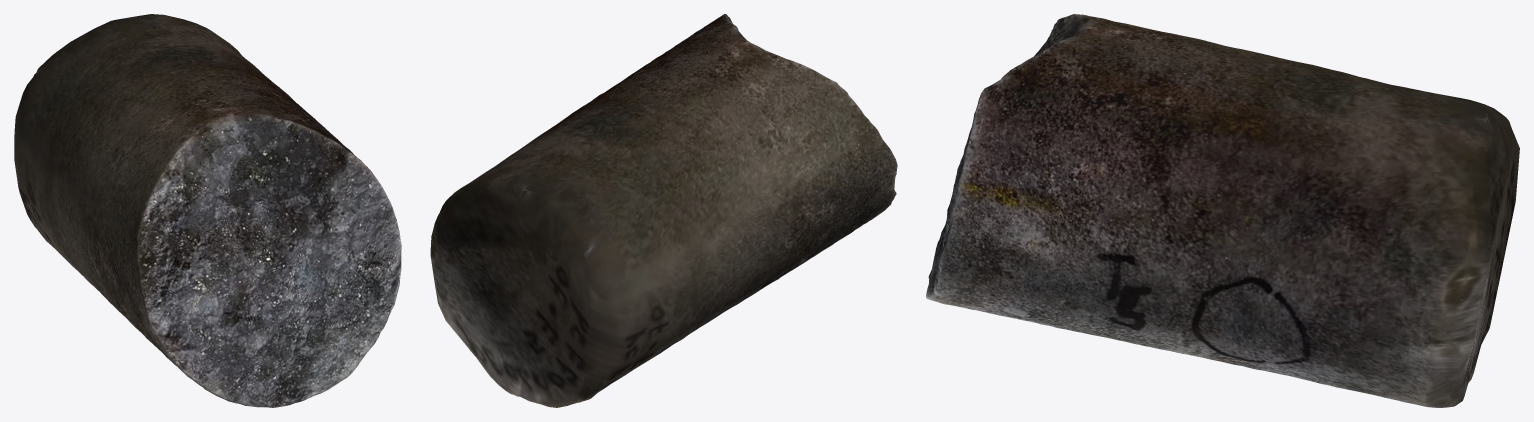
File: PECLD07754 T5.GLB
3 renders of one model, left to right at view 1: azimuth 30°, elevation 25°; view 2: azimuth 150°, elevation 25°; view 3: azimuth 270°, elevation 25°, orthographic. The views are drawn at different scales.
Visible parts, largest first — view 1: baked_mesh; view 2: baked_mesh; view 3: baked_mesh.
Boxes of the visible parts, x1,y1,x2,y2 form: baked_mesh: [14, 14, 401, 407]; baked_mesh: [430, 14, 897, 407]; baked_mesh: [926, 14, 1519, 407].
Size of the model in its own units: 0.3464 by 0.3081 by 0.5039.
1 material, 1 textured.
